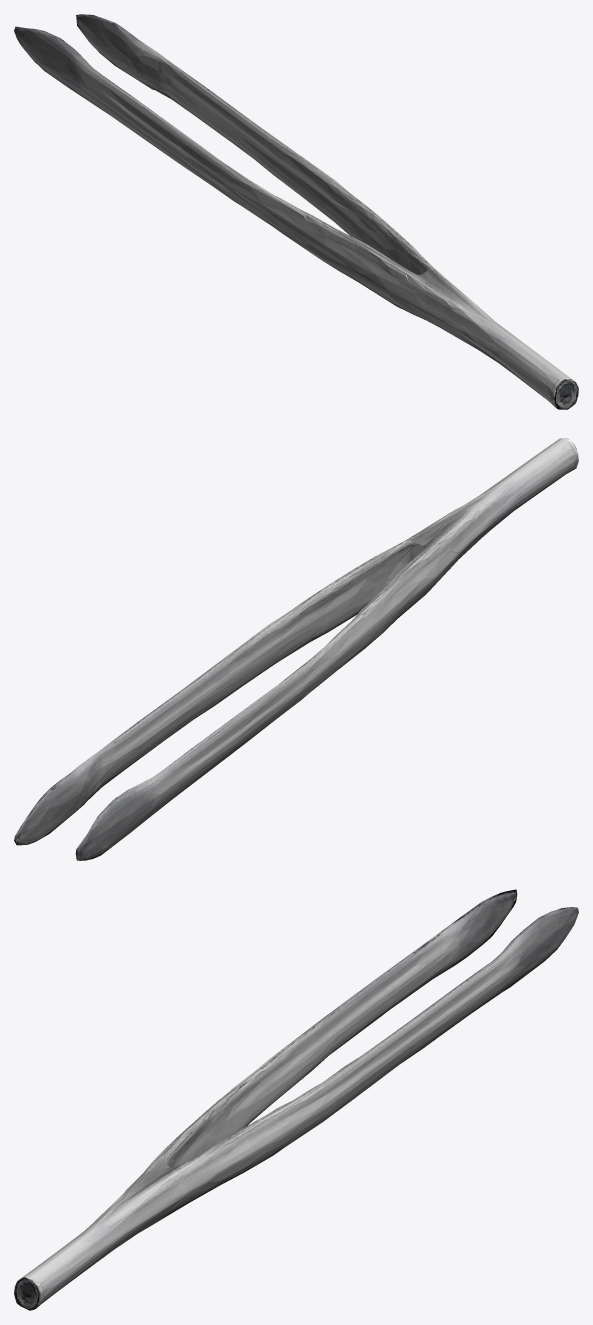
File: Forceps.glb
3 views of the same model, one above another, from view 1: azimuth 30°, elevation 25°; view 2: azimuth 150°, elevation 25°; view 3: azimuth 330°, elevation 25° (orthographic). The views are drawn at different scales.
Parts seen in each view (by area): view 1: world; view 2: world; view 3: world.
Boxes of the visible parts, box(x1,y1,x2,y2) form: world: box(14, 14, 578, 409); world: box(14, 438, 578, 860); world: box(14, 889, 578, 1310).
Bounding box in the file's own units: 0.0895 × 0.0505 × 1.
1 material, 1 textured.
